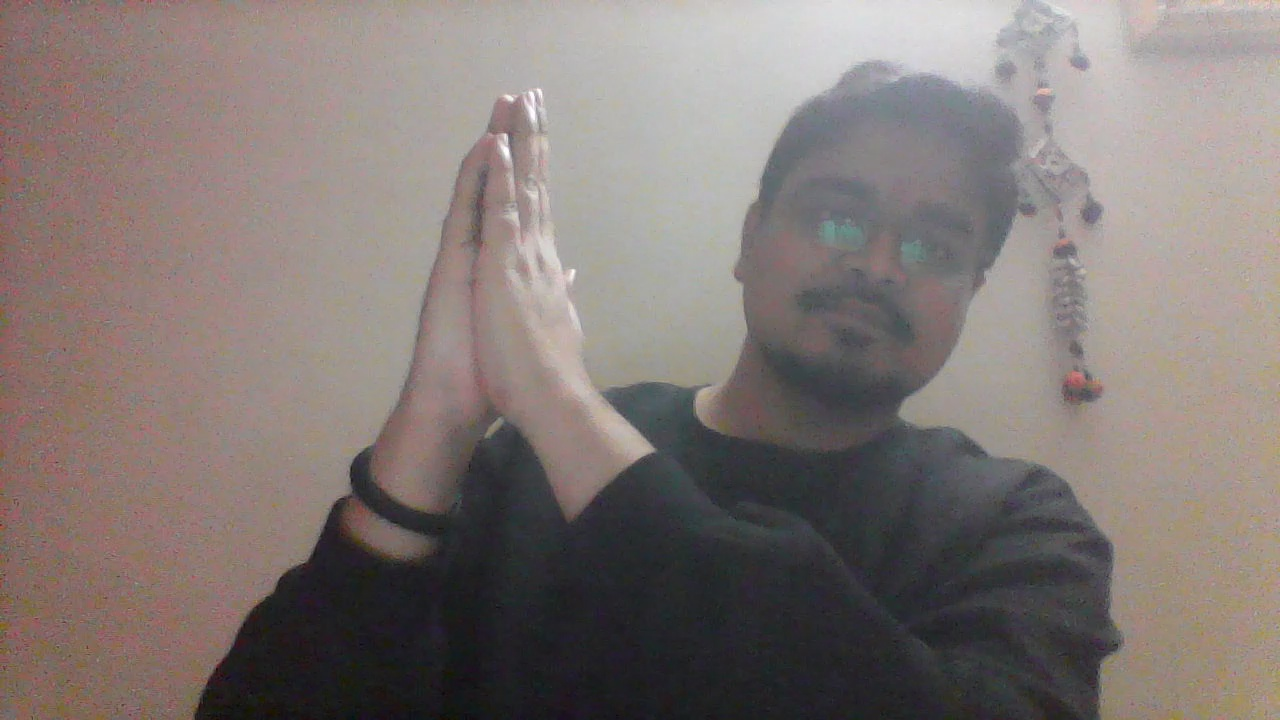Namaste: (408, 79, 585, 518)
